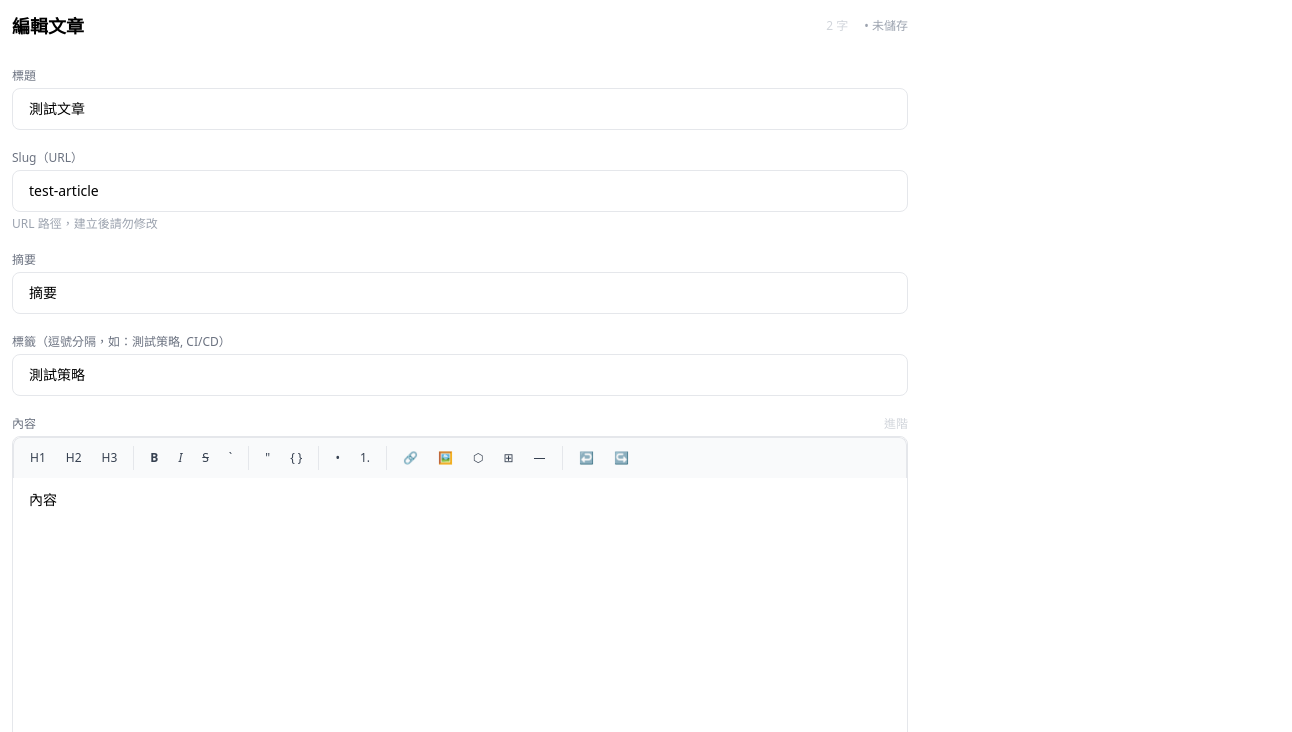
Test: AdminPostEdit — auto-save and preview › shows auto-saved timestamp after save completes
Replace the text in the field named "標題" with "新標題" at (460, 109), box top-left (12, 88), bottom-right (908, 130)
Wait 5000 ms
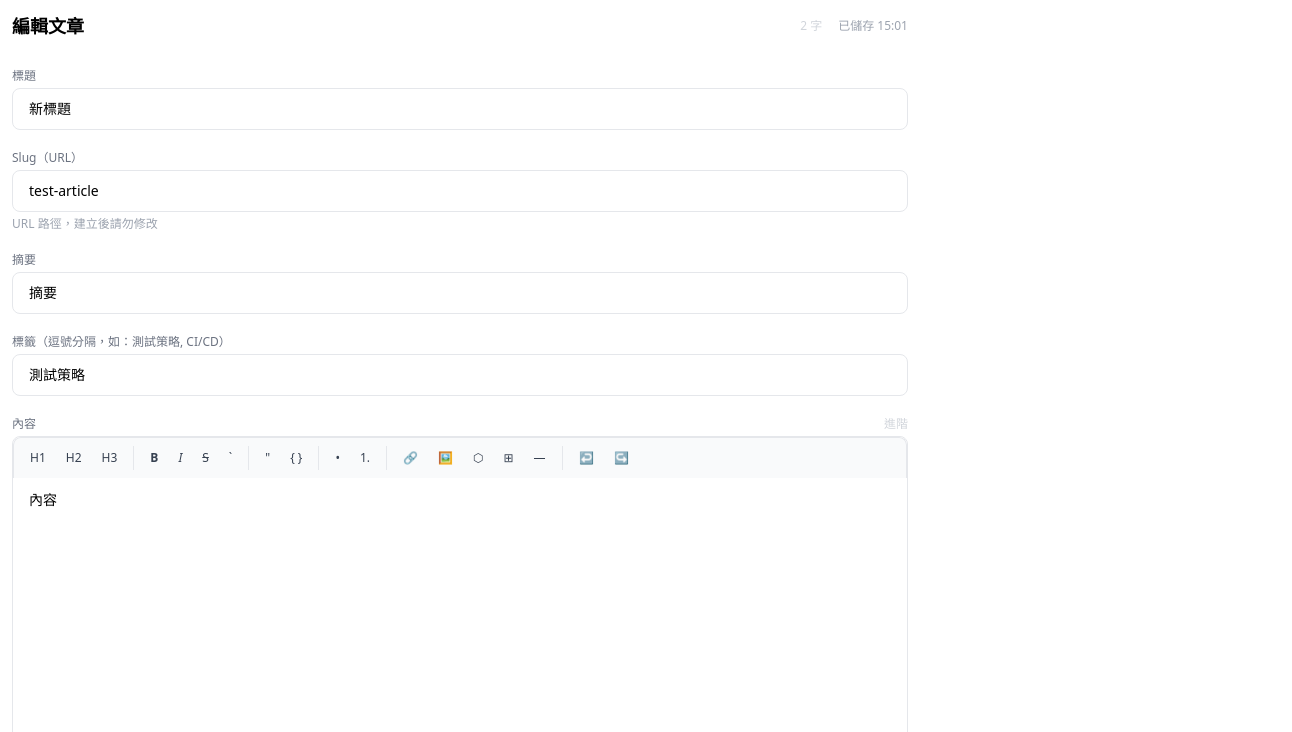
Expected: the text "已儲存 15:01" is shown, top-left (838, 18), bottom-right (908, 34)
